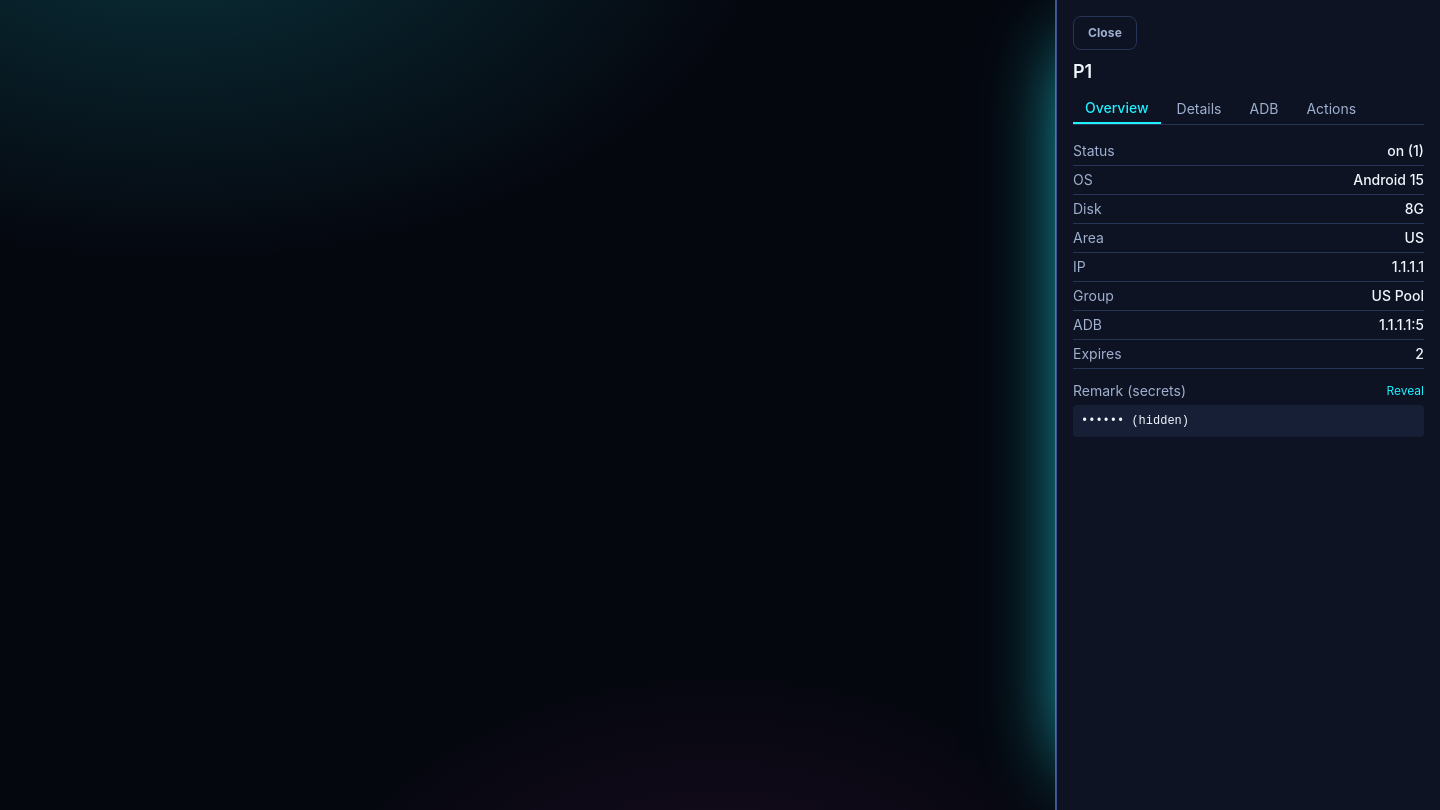
it: DeviceDrawer › ADB tab runs a command with image_id and shows output
Click the tab "ADB": (1264, 109) top-left (1238, 94), bottom-right (1290, 124)
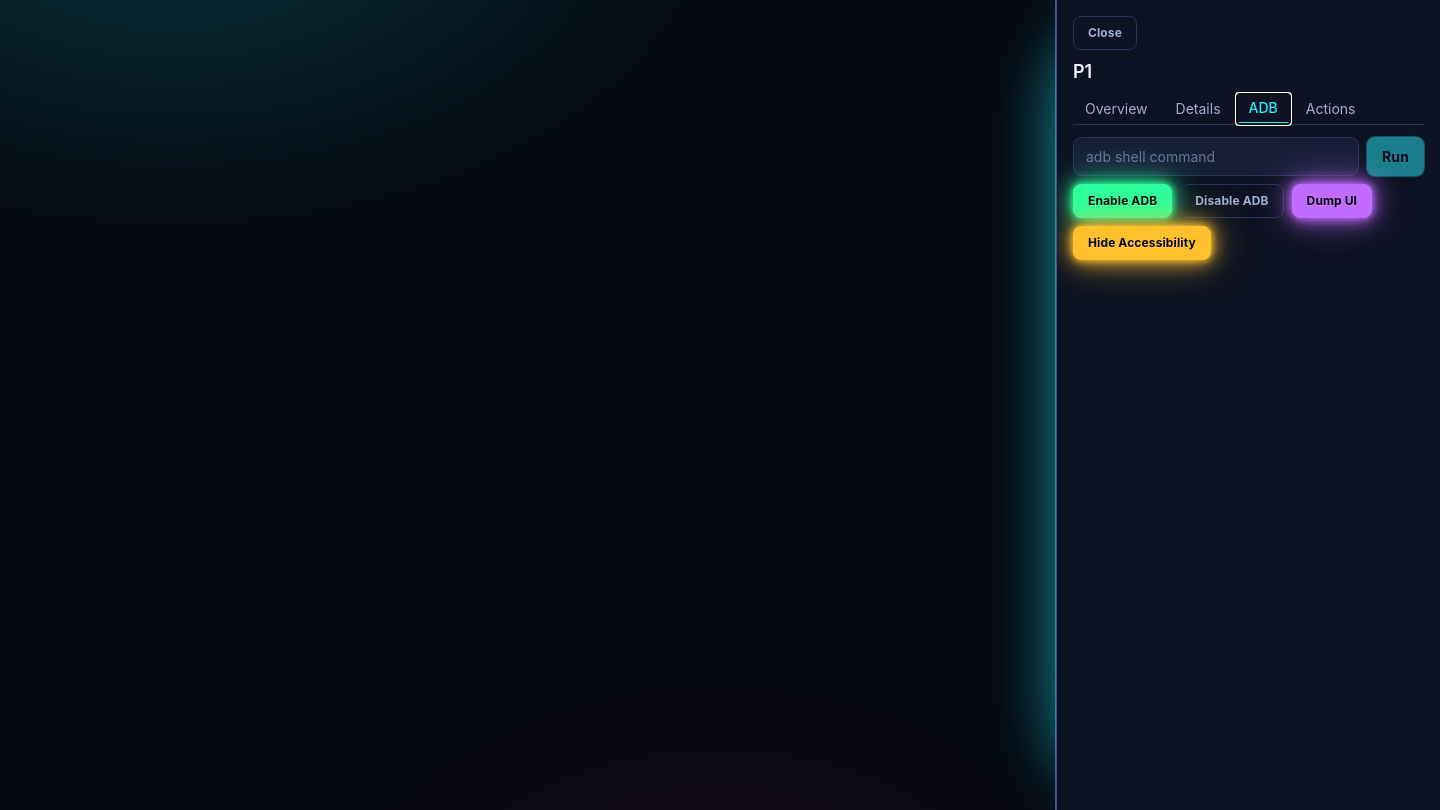
In the field named "adb command": (1216, 156) top-left (1073, 137), bottom-right (1359, 176), type "getprop"
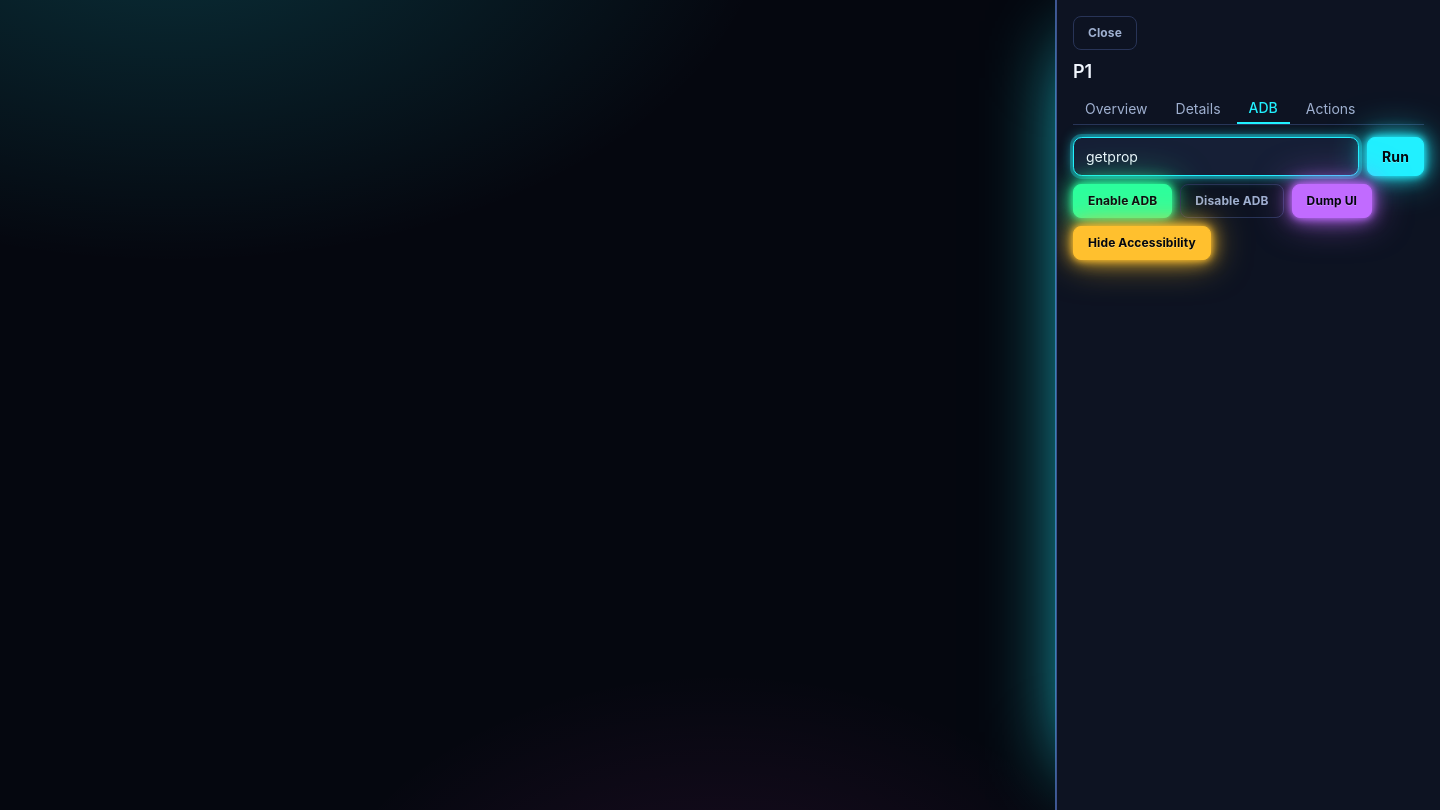
Click the button "Run": (1396, 156) top-left (1367, 137), bottom-right (1424, 176)
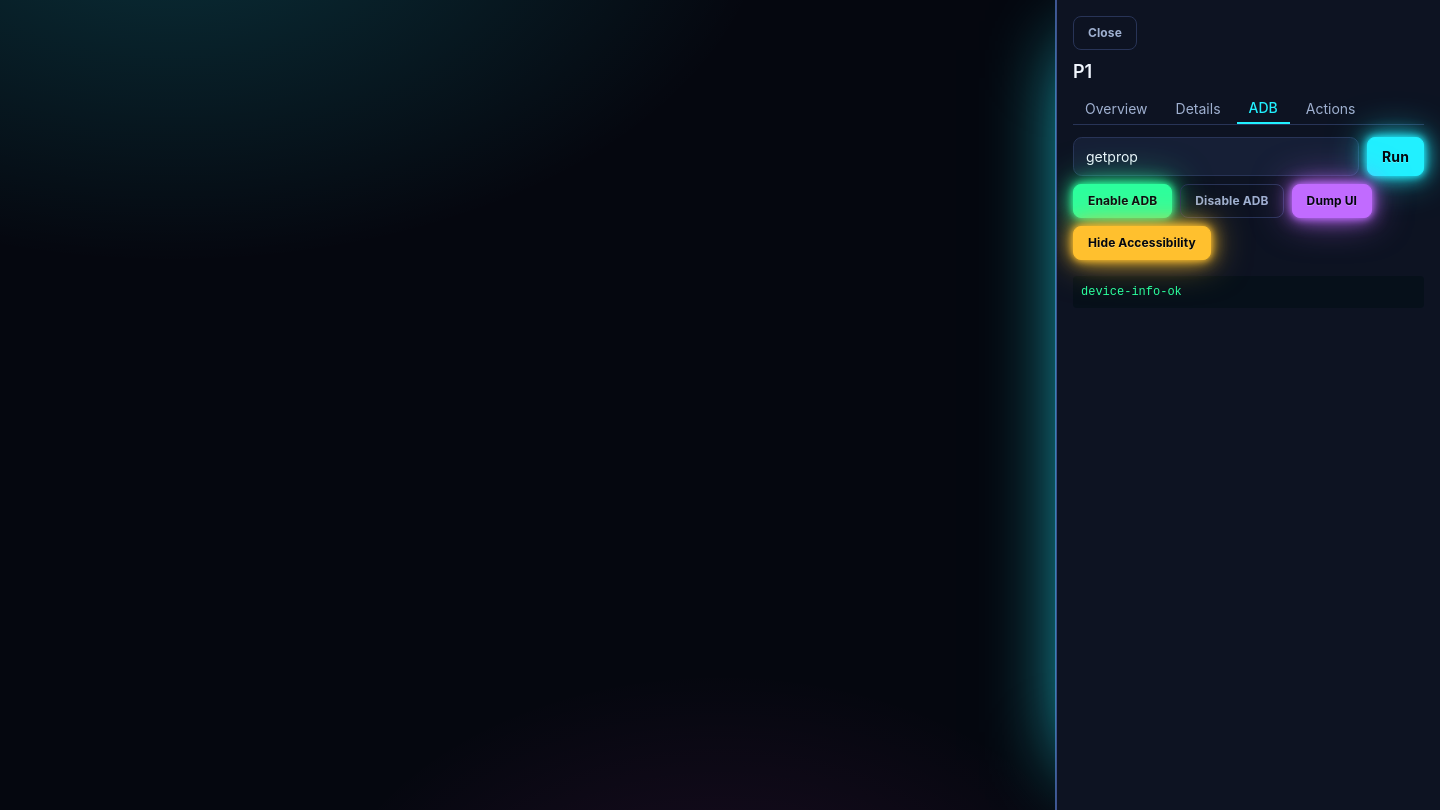
Check: the text named "adb output" reads "device-info-ok", box top-left (1081, 285), bottom-right (1182, 299)
